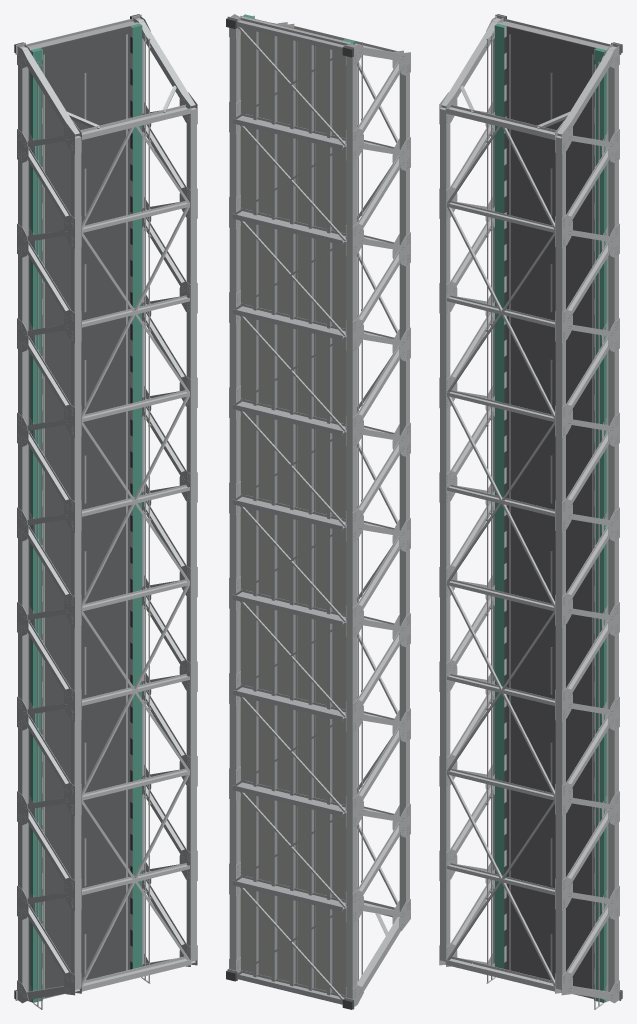
3 renders of one model, left to right at view 1: azimuth 30°, elevation 25°; view 2: azimuth 150°, elevation 25°; view 3: azimuth 330°, elevation 25°, orthographic.
Parts seen in each view (by area): view 1: B4_baja, B4_aspal, B4_kerb, B4_merah_lantai, B4_marka_putih_lantai, B4_beton, B4_hitam, B4_putih, B4_marka_kuning_lantai, B4_baut, B4_baja_bawah; view 2: B4_beton, B4_baja_bawah, B4_baja, B4_merah_lantai, B4_baut, B4_bantalan; view 3: B4_baja, B4_aspal, B4_kerb, B4_merah_lantai, B4_marka_putih_lantai, B4_beton, B4_hitam, B4_putih, B4_marka_kuning_lantai, B4_baut, B4_baja_bawah.
Part boxes in pixels (left/top/right/bottom): B4_baja: left=17, top=16, right=197, bottom=1003; B4_aspal: left=40, top=26, right=130, bottom=997; B4_kerb: left=30, top=23, right=142, bottom=1002; B4_merah_lantai: left=33, top=33, right=151, bottom=1009; B4_marka_putih_lantai: left=43, top=34, right=127, bottom=998; B4_beton: left=28, top=22, right=138, bottom=1000; B4_hitam: left=42, top=36, right=132, bottom=1000; B4_putih: left=42, top=26, right=132, bottom=984; B4_marka_kuning_lantai: left=84, top=73, right=86, bottom=974; B4_baut: left=18, top=57, right=189, bottom=998; B4_baja_bawah: left=15, top=14, right=141, bottom=1000; B4_beton: left=240, top=16, right=349, bottom=995; B4_baja_bawah: left=227, top=16, right=354, bottom=1009; B4_baja: left=229, top=14, right=410, bottom=1006; B4_merah_lantai: left=253, top=15, right=362, bottom=981; B4_baut: left=237, top=29, right=409, bottom=997; B4_bantalan: left=226, top=17, right=353, bottom=1009; B4_baja: left=439, top=16, right=619, bottom=1003; B4_aspal: left=506, top=26, right=596, bottom=997; B4_kerb: left=494, top=23, right=606, bottom=1002; B4_merah_lantai: left=485, top=33, right=603, bottom=1009; B4_marka_putih_lantai: left=509, top=34, right=593, bottom=998; B4_beton: left=498, top=22, right=608, bottom=991; B4_hitam: left=504, top=36, right=594, bottom=1000; B4_putih: left=504, top=26, right=594, bottom=984; B4_marka_kuning_lantai: left=550, top=73, right=552, bottom=974; B4_baut: left=447, top=57, right=618, bottom=998; B4_baja_bawah: left=495, top=14, right=621, bottom=1000.
Bounding box in the file's own units: 8.24 × 59.93 × 6.95.
